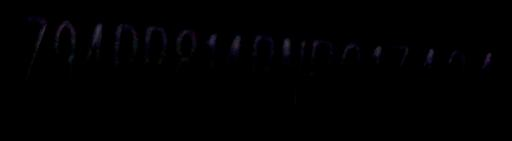letter: (273, 32, 309, 113), (300, 35, 336, 114), (106, 19, 140, 102), (242, 31, 276, 112), (136, 22, 170, 103), (18, 10, 50, 95), (168, 22, 200, 105), (379, 42, 413, 119), (332, 36, 364, 117), (437, 46, 469, 123), (48, 16, 78, 97), (408, 44, 438, 123), (466, 46, 496, 125), (216, 30, 246, 109), (78, 17, 106, 98), (199, 28, 219, 107), (364, 39, 384, 116)
